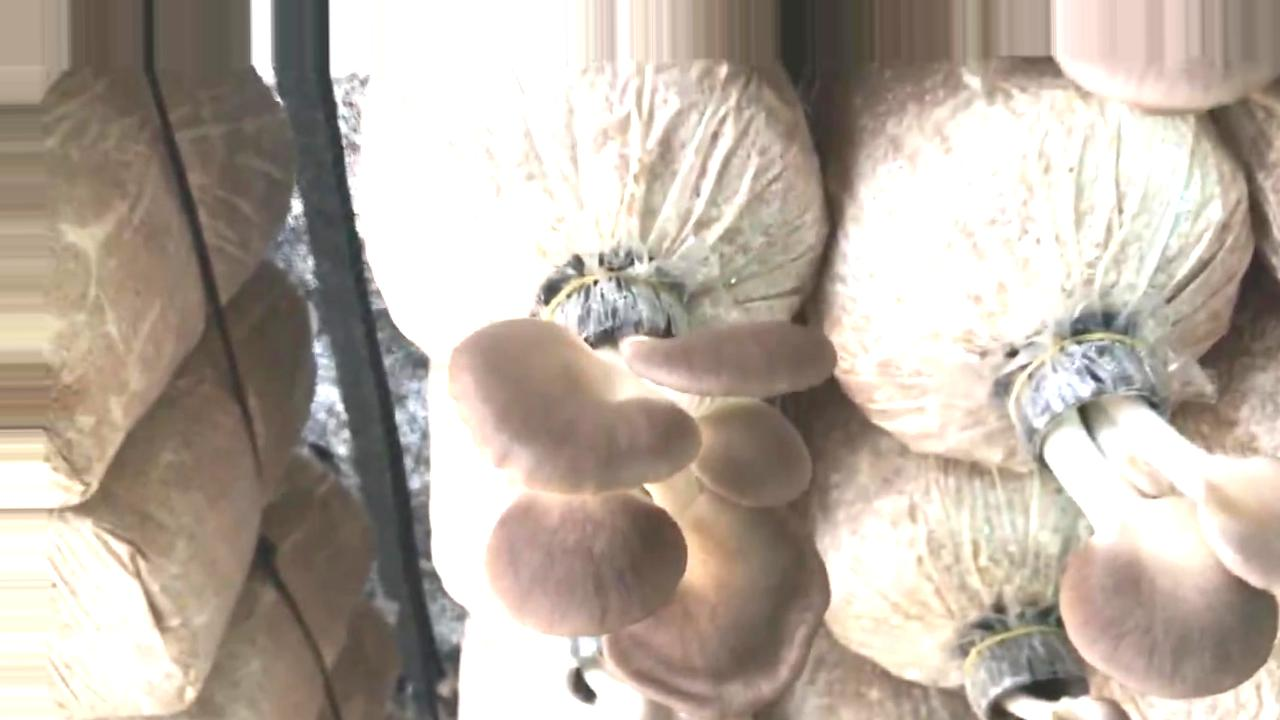nam: (449, 281, 836, 719), (1013, 335, 1280, 699), (1050, 1, 1279, 113), (968, 625, 1123, 720)
